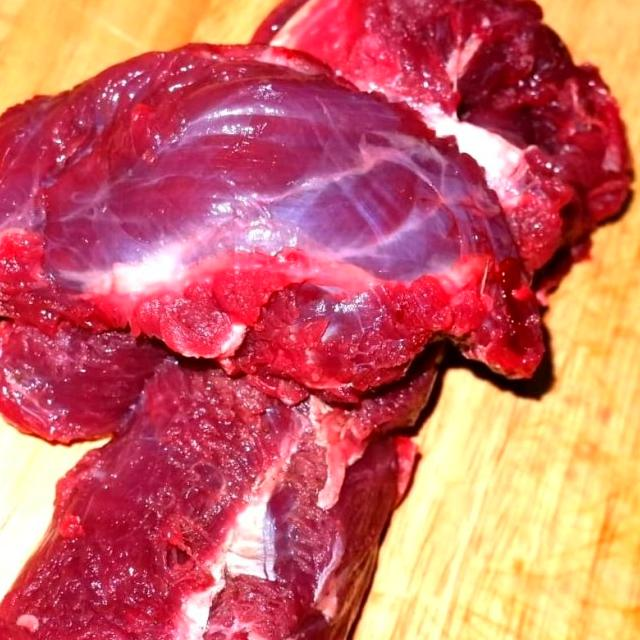beef: (0, 68, 575, 385), (0, 329, 404, 640), (200, 0, 640, 242)
